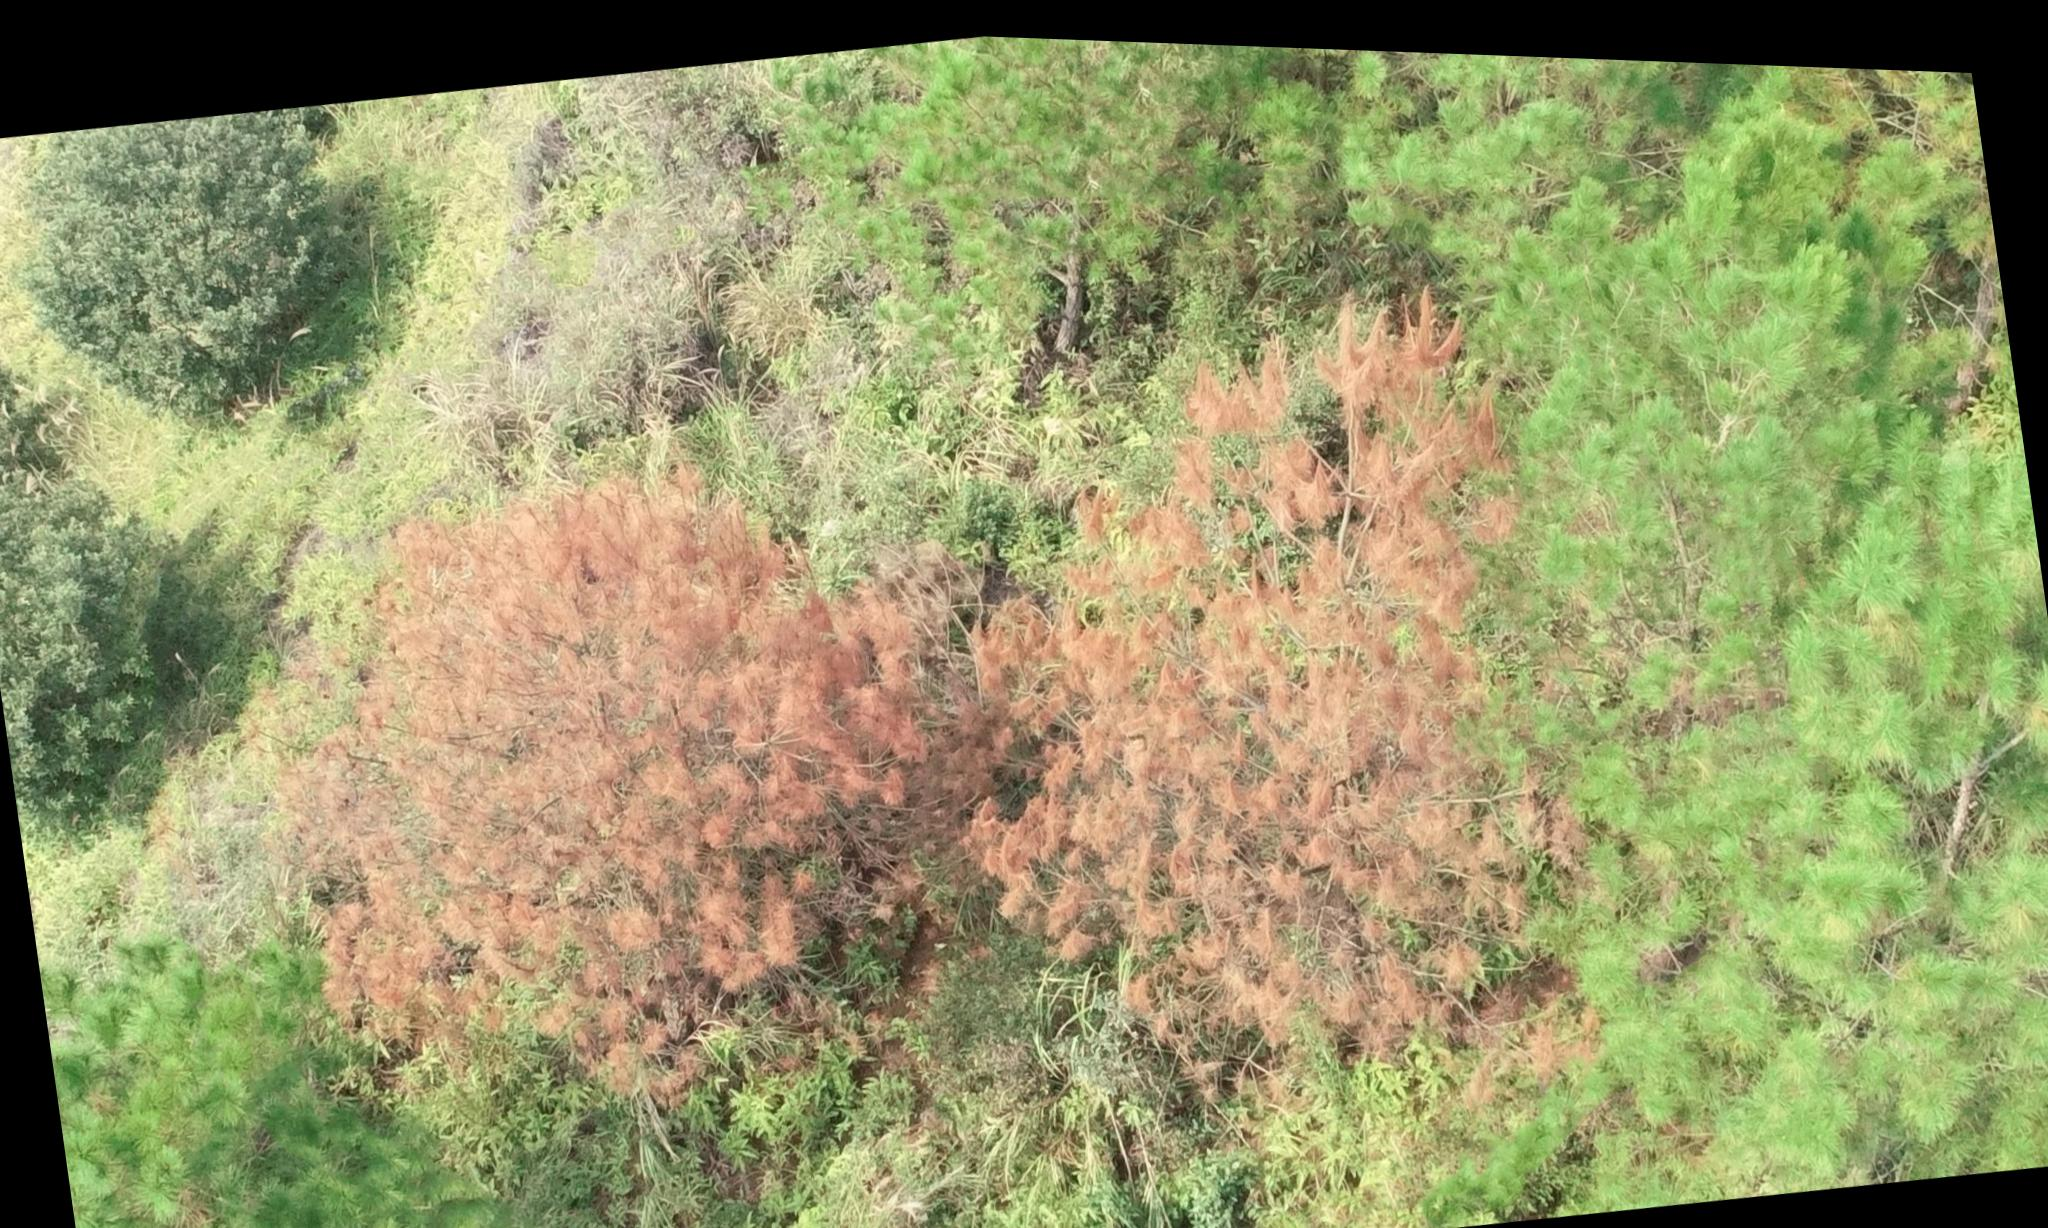heavy: (263, 439, 993, 1120), (950, 322, 1573, 1083)
